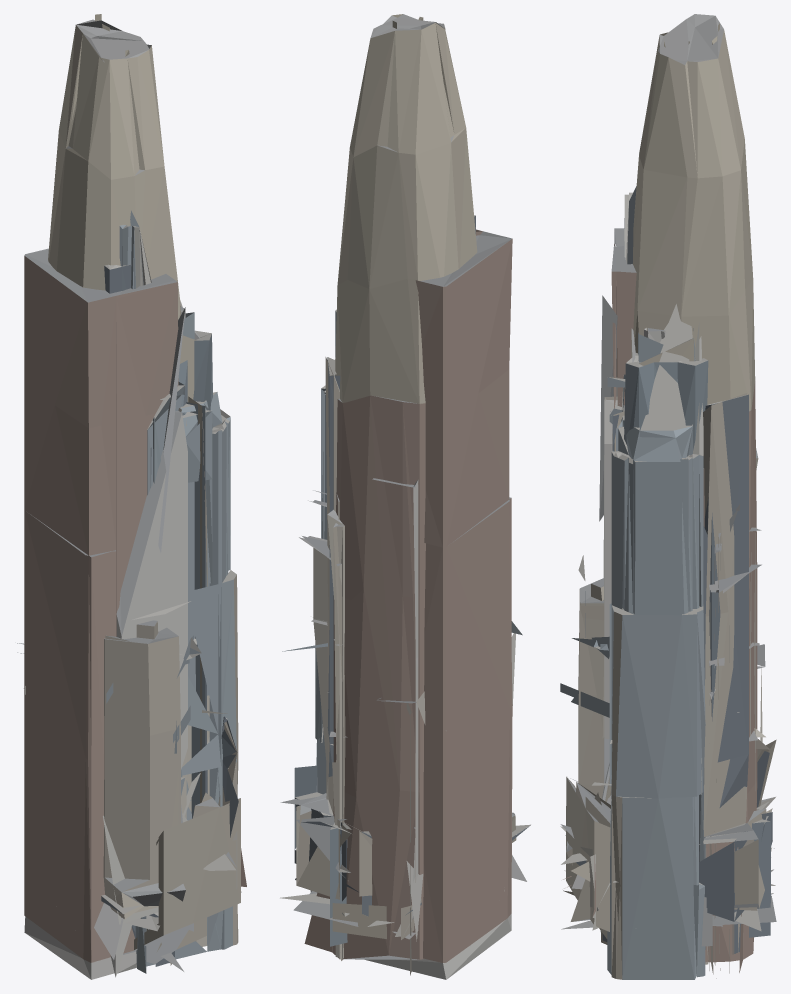
The model's file is towers.glb.
The picture shows the model from 3 angles, left to right: view 1: azimuth 30°, elevation 25°; view 2: azimuth 150°, elevation 25°; view 3: azimuth 270°, elevation 25°; orthographic projection. The views are drawn at different scales.
Parts seen in each view (by area): view 1: tower-8, tower-7, tower-12, tower-5, tower-11, tower-9, tower-13, tower-10, tower-3, tower-0, tower-1, tower-6 (+1 smaller); view 2: tower-7, tower-8, tower-13, tower-5, tower-9, tower-2, tower-12, tower-14; view 3: tower-12, tower-7, tower-13, tower-5, tower-9, tower-10, tower-8, tower-11, tower-3, tower-1, tower-14, tower-4.
Part boxes in pixels (x1,y1,x2,y2): tower-8: (24, 248, 190, 979); tower-7: (48, 14, 196, 941); tower-12: (17, 210, 246, 973); tower-5: (103, 620, 185, 919); tower-11: (25, 408, 227, 977); tower-9: (134, 792, 240, 963); tower-13: (186, 396, 238, 870); tower-10: (101, 306, 212, 946); tower-3: (158, 307, 209, 815); tower-0: (147, 382, 184, 795); tower-1: (161, 312, 199, 971); tower-6: (125, 420, 186, 966); tower-7: (293, 14, 477, 959); tower-8: (282, 215, 522, 979); tower-13: (280, 357, 372, 916); tower-5: (299, 490, 516, 960); tower-9: (280, 823, 386, 946); tower-2: (372, 478, 418, 939); tower-12: (315, 359, 335, 794); tower-14: (327, 692, 423, 941); tower-12: (580, 186, 715, 979); tower-7: (563, 14, 776, 972); tower-13: (561, 393, 776, 921); tower-5: (566, 504, 769, 978); tower-9: (566, 776, 770, 938); tower-10: (560, 328, 774, 964); tower-8: (578, 228, 636, 637); tower-11: (602, 396, 621, 786); tower-3: (599, 295, 775, 885); tower-1: (561, 328, 775, 929); tower-14: (560, 636, 739, 717); tower-4: (572, 644, 765, 889).
Bounding box in the file's own units: 48.01 × 270 × 58.01.
